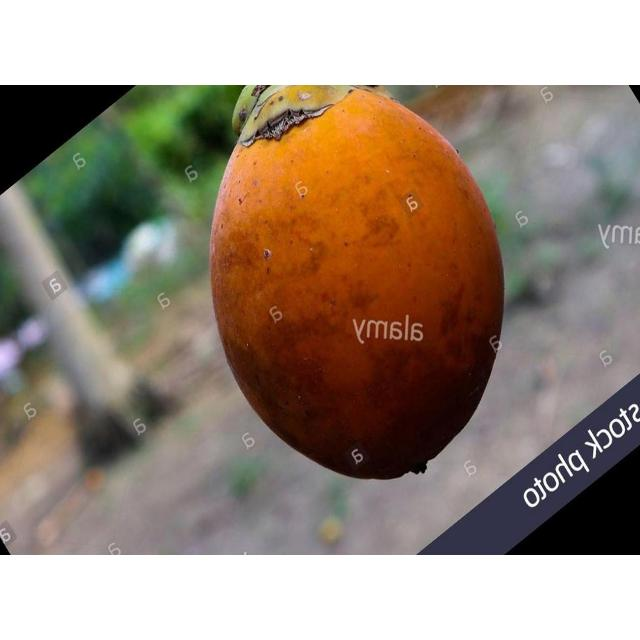good: (208, 85, 505, 482)
